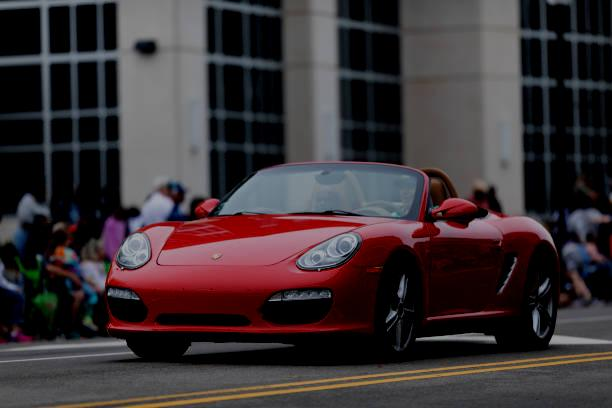porsche: (208, 249, 226, 261)
